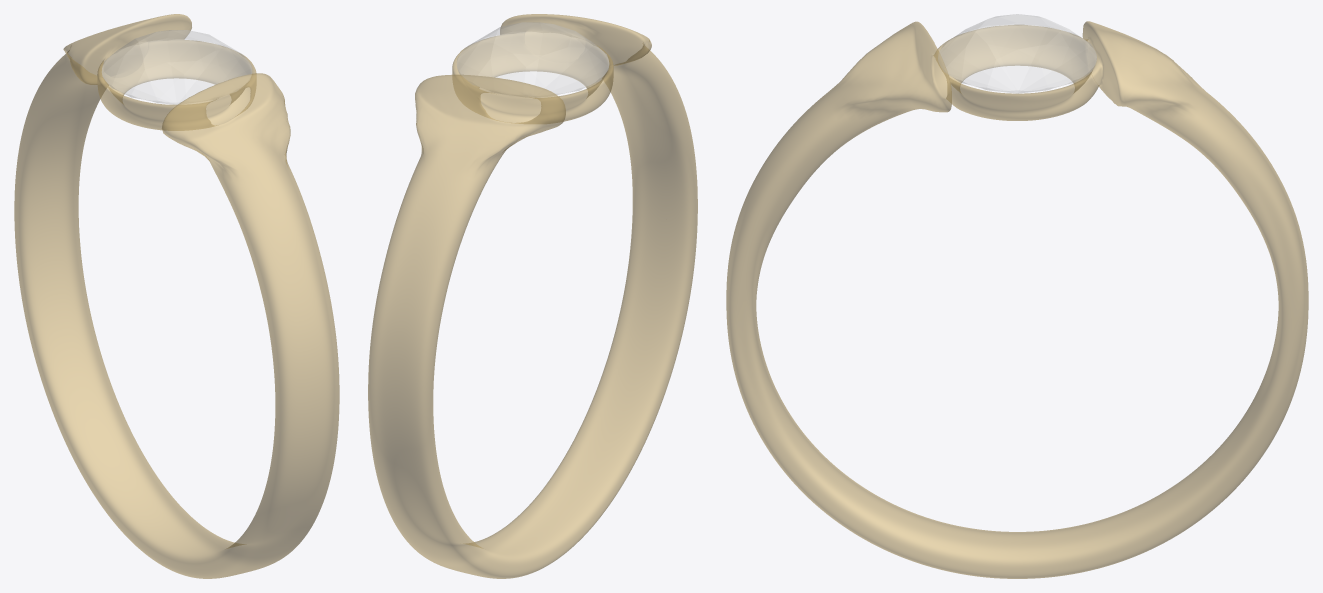
3 views of the same model, side by side, from view 1: azimuth 30°, elevation 25°; view 2: azimuth 150°, elevation 25°; view 3: azimuth 270°, elevation 25° (orthographic). The views are drawn at different scales.
Visible parts, largest first — view 1: Ring, Diamond; view 2: Ring, Diamond; view 3: Ring, Diamond.
Boxes of the visible parts, <box> form: Ring: <box>14,14,339,578</box>; Diamond: <box>102,30,251,104</box>; Ring: <box>368,14,697,578</box>; Diamond: <box>457,22,608,97</box>; Ring: <box>726,21,1308,578</box>; Diamond: <box>938,14,1096,93</box>.
Size of the model in its own units: 0.6454 by 2.28 by 2.24.
